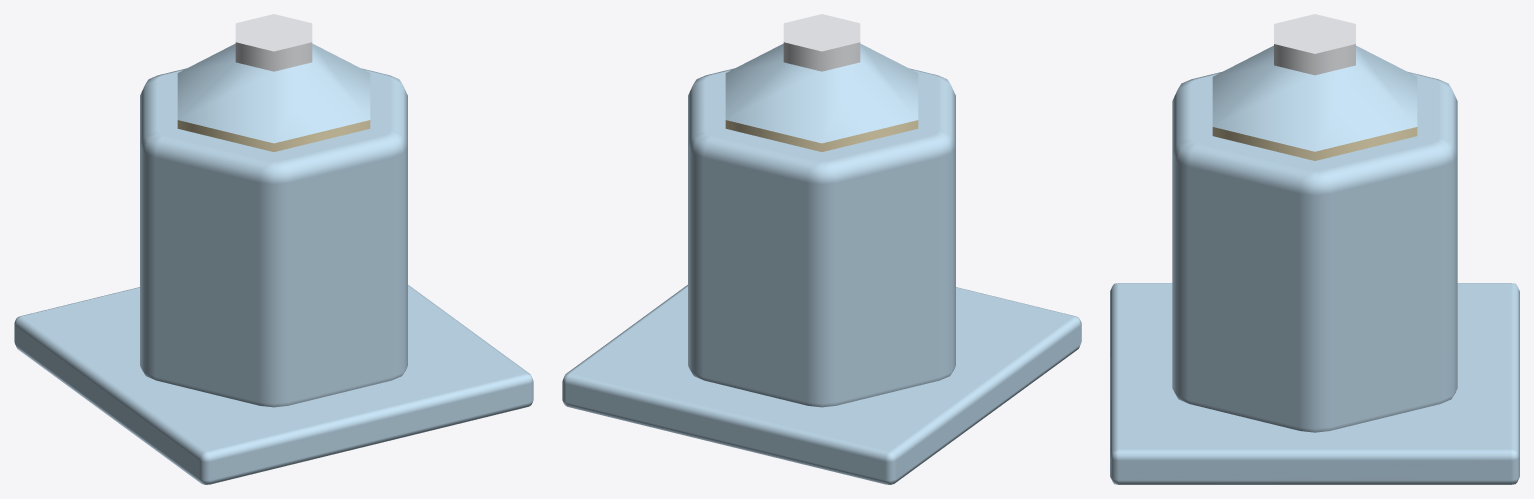
The model's file is R4X_ChargeCapacity.glb.
3 views of the same model, side by side, from view 1: azimuth 30°, elevation 25°; view 2: azimuth 150°, elevation 25°; view 3: azimuth 270°, elevation 25° (orthographic). The views are drawn at different scales.
Visible parts, largest first — view 1: R4X_ChargeCapacity_Body; view 2: R4X_ChargeCapacity_Body; view 3: R4X_ChargeCapacity_Body.
Boxes of the visible parts, x1=… form: R4X_ChargeCapacity_Body: x1=14, y1=14, x2=533, y2=484; R4X_ChargeCapacity_Body: x1=562, y1=14, x2=1081, y2=484; R4X_ChargeCapacity_Body: x1=1110, y1=14, x2=1519, y2=484.
Bounding box in the file's own units: 0.52 × 0.515 × 0.52.
